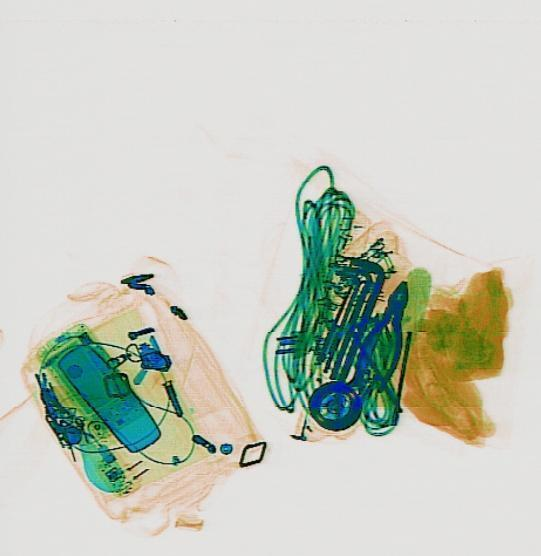Pliers: (344, 273, 425, 398)
